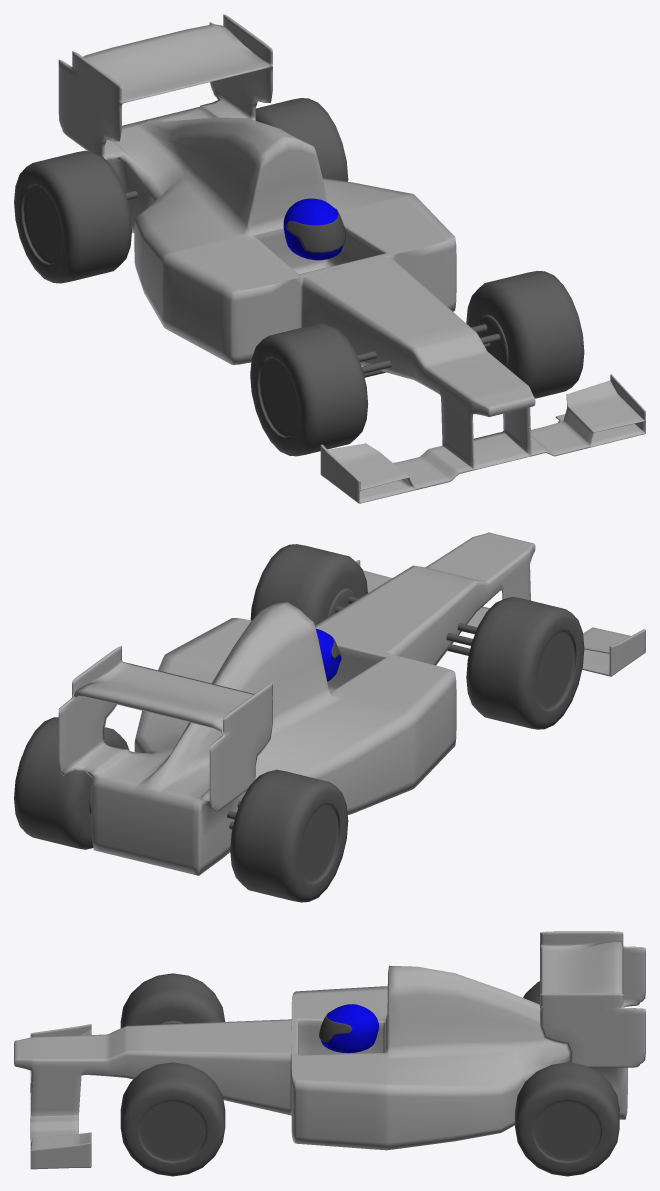
The model's file is mclaren.fbx.
The picture shows the model from 3 angles, top to bottom: view 1: azimuth 30°, elevation 25°; view 2: azimuth 150°, elevation 25°; view 3: azimuth 270°, elevation 25°; orthographic projection. The views are drawn at different scales.
Parts seen in each view (by area): view 1: Carro03; view 2: Carro03; view 3: Carro03.
Boxes of the visible parts, left/top/right/bottom form: Carro03: left=14, top=14, right=645, bottom=503; Carro03: left=14, top=532, right=645, bottom=902; Carro03: left=14, top=931, right=645, bottom=1176.
Bounding box in the file's own units: 4.19 × 2.63 × 9.42.
